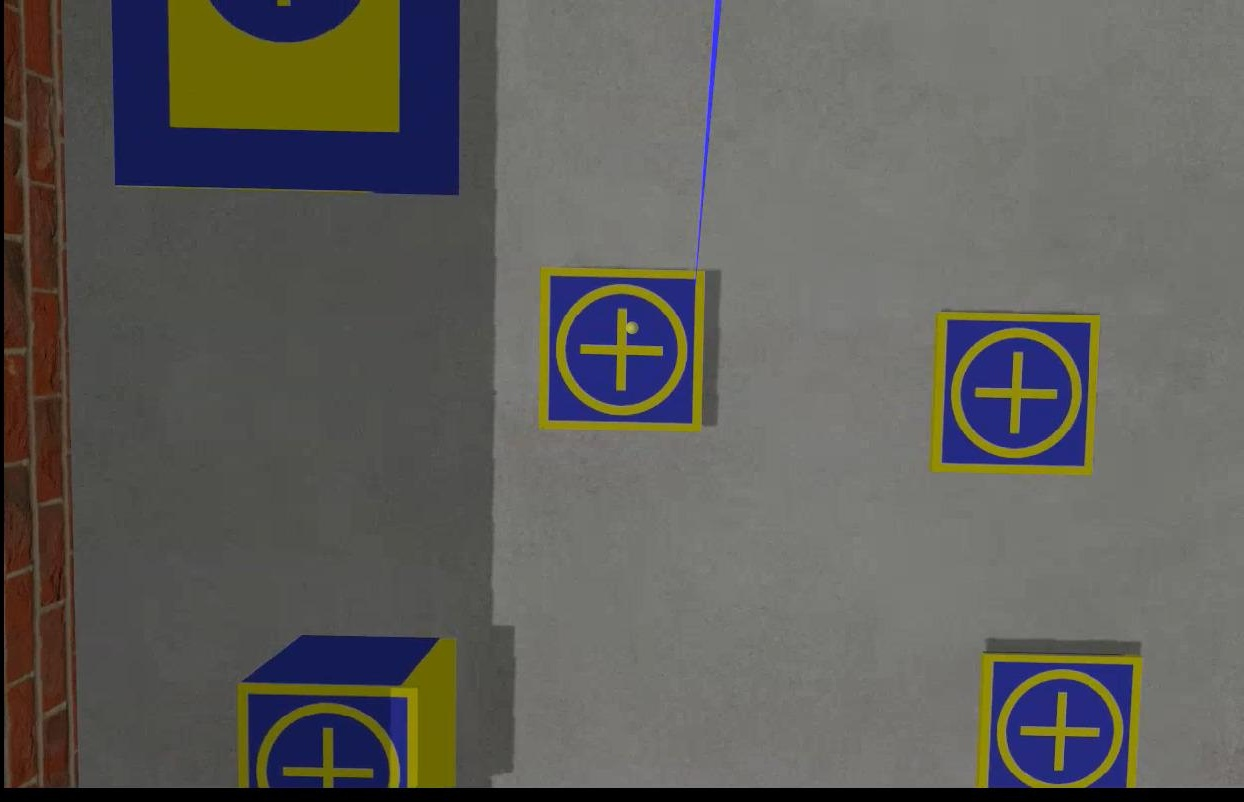large_base: (112, 1, 468, 199)
small_base: (928, 311, 1100, 478), (535, 268, 705, 436), (978, 652, 1139, 788), (238, 685, 417, 789)
